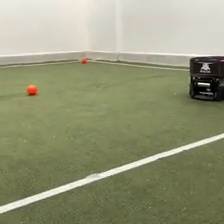ball: (25, 82, 38, 96), (80, 55, 88, 64)
robot: (186, 54, 224, 102)
